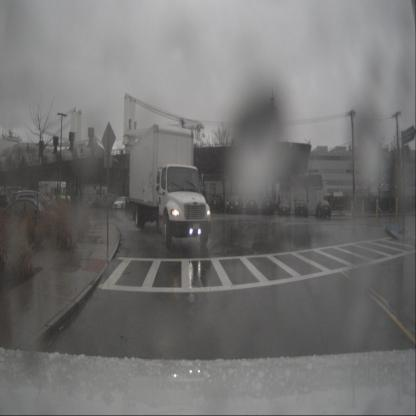vehicle-car: (0, 197, 64, 239), (5, 192, 60, 230), (226, 194, 243, 214), (315, 200, 331, 218), (210, 194, 225, 212), (295, 196, 308, 216), (0, 194, 16, 209), (262, 195, 274, 215), (113, 196, 130, 210), (246, 197, 258, 214), (278, 199, 290, 216), (125, 196, 139, 210)
vehicle-truck: (129, 123, 211, 249), (38, 180, 70, 212), (103, 193, 121, 209)
